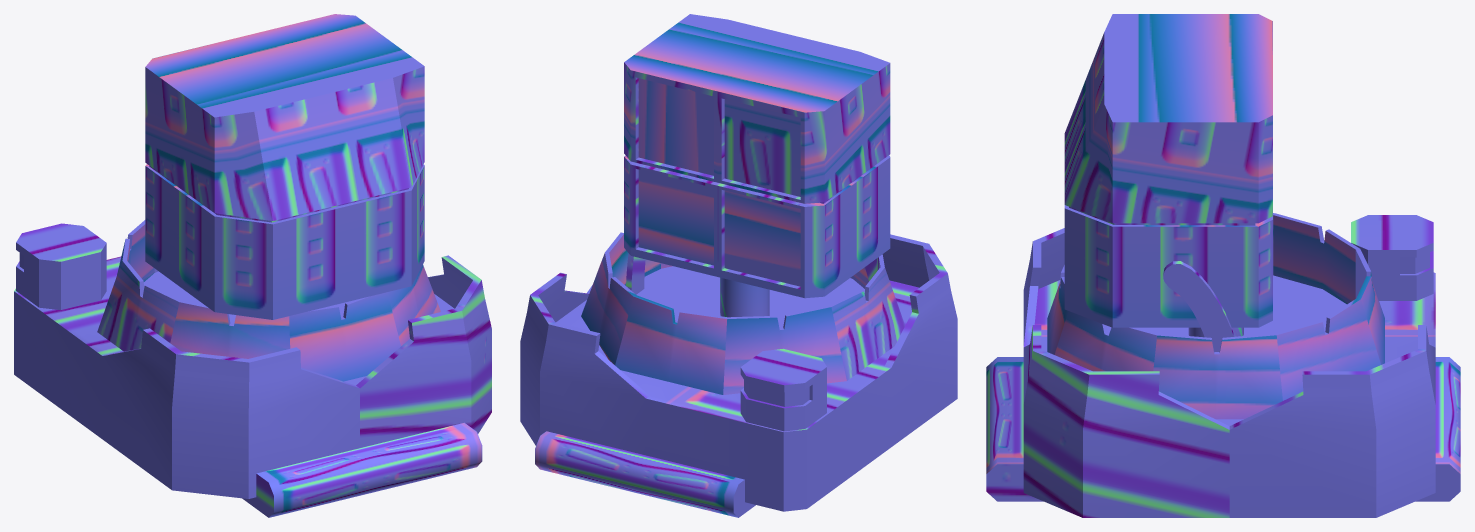
Rendered from Mace.fbx.
The picture shows the model from 3 angles, left to right: view 1: azimuth 30°, elevation 25°; view 2: azimuth 150°, elevation 25°; view 3: azimuth 270°, elevation 25°; orthographic projection. The views are drawn at different scales.
Visible parts, largest first — view 1: Mace_Cannon, Mace, Mace .001; view 2: Mace_Cannon, Mace, Mace .001; view 3: Mace_Cannon, Mace, Mace .001.
Boxes of the visible parts, box(x1,y1,x2,y2) form: Mace_Cannon: box(97, 14, 440, 381); Mace: box(14, 223, 491, 517); Mace .001: box(256, 422, 482, 517); Mace_Cannon: box(581, 14, 904, 394); Mace: box(520, 234, 957, 517); Mace .001: box(535, 431, 744, 517); Mace_Cannon: box(1047, 14, 1384, 419); Mace: box(986, 215, 1460, 517); Mace .001: box(986, 357, 1460, 473).
Size of the model in its own units: 105 by 113 by 127.
